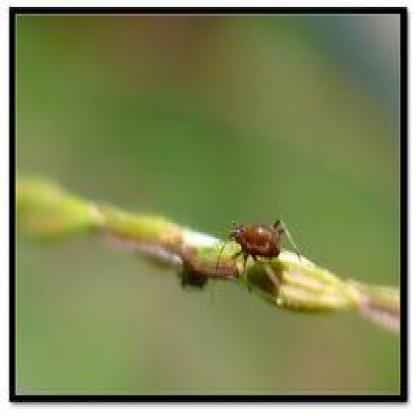aphid: (218, 210, 298, 277)
